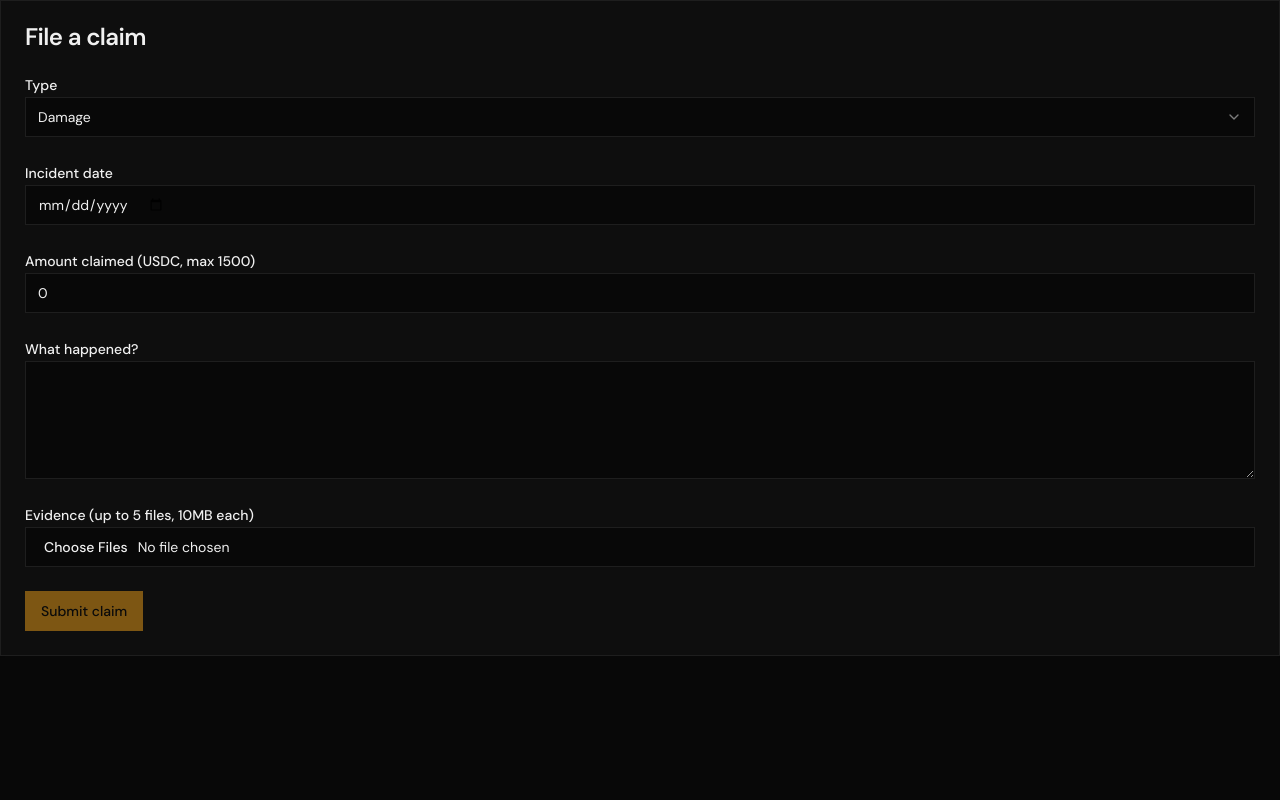
it: ClaimSubmit › surfaces backend error when submit fails
Type "2026-04-01" into the date field labelled "Incident date". click: (640, 205)
box: [25, 185, 1255, 225]
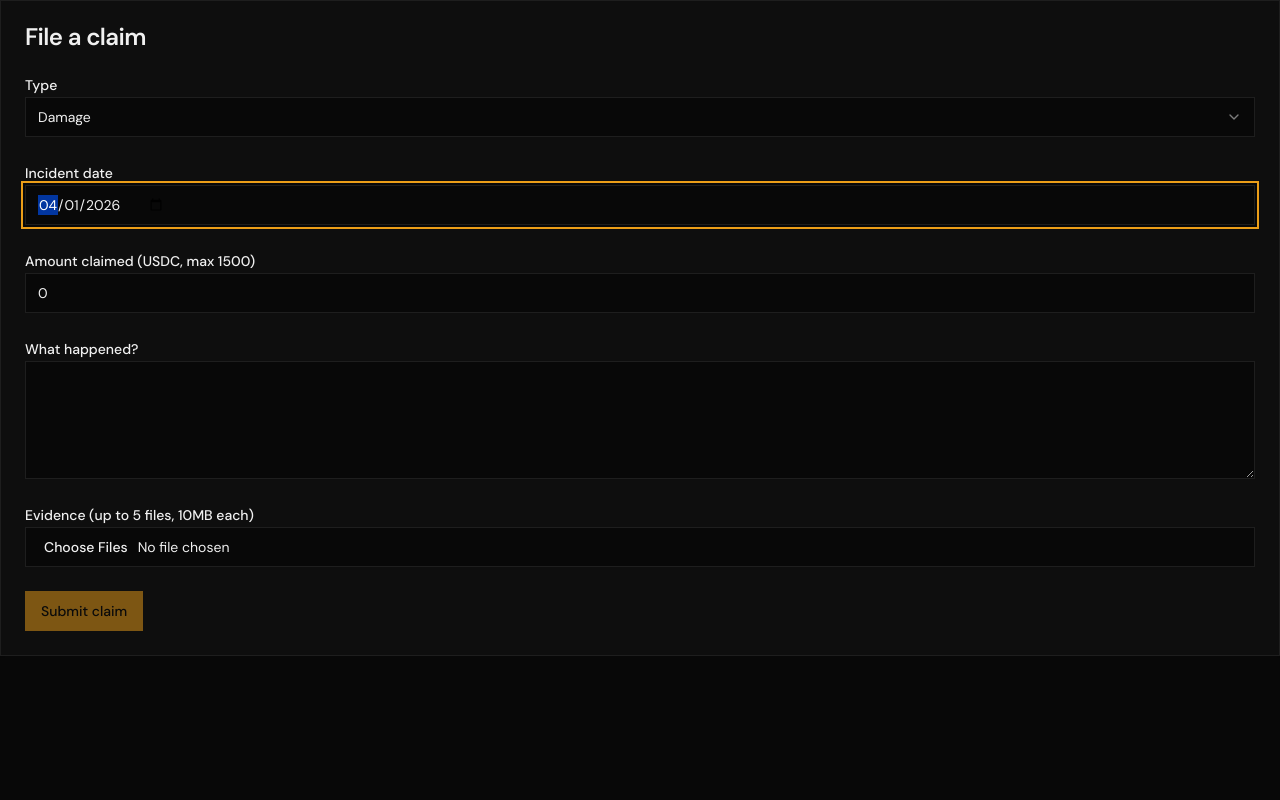
Replace the text in the number field labelled "Amount claimed (USDC, max 1500)" with "300". click: (640, 293)
box: [25, 273, 1255, 313]
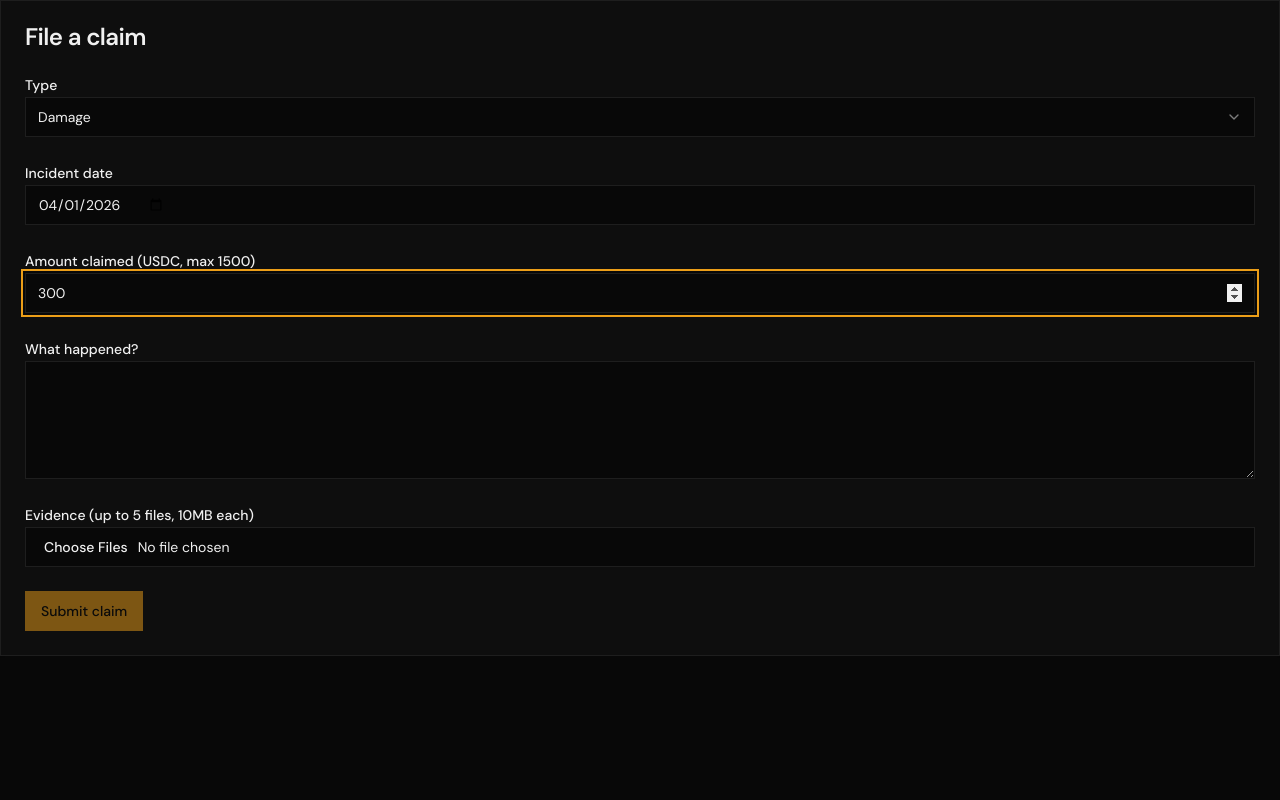
Type "details here" into the text box labelled "What happened?". click: (640, 420)
box: [25, 361, 1255, 479]
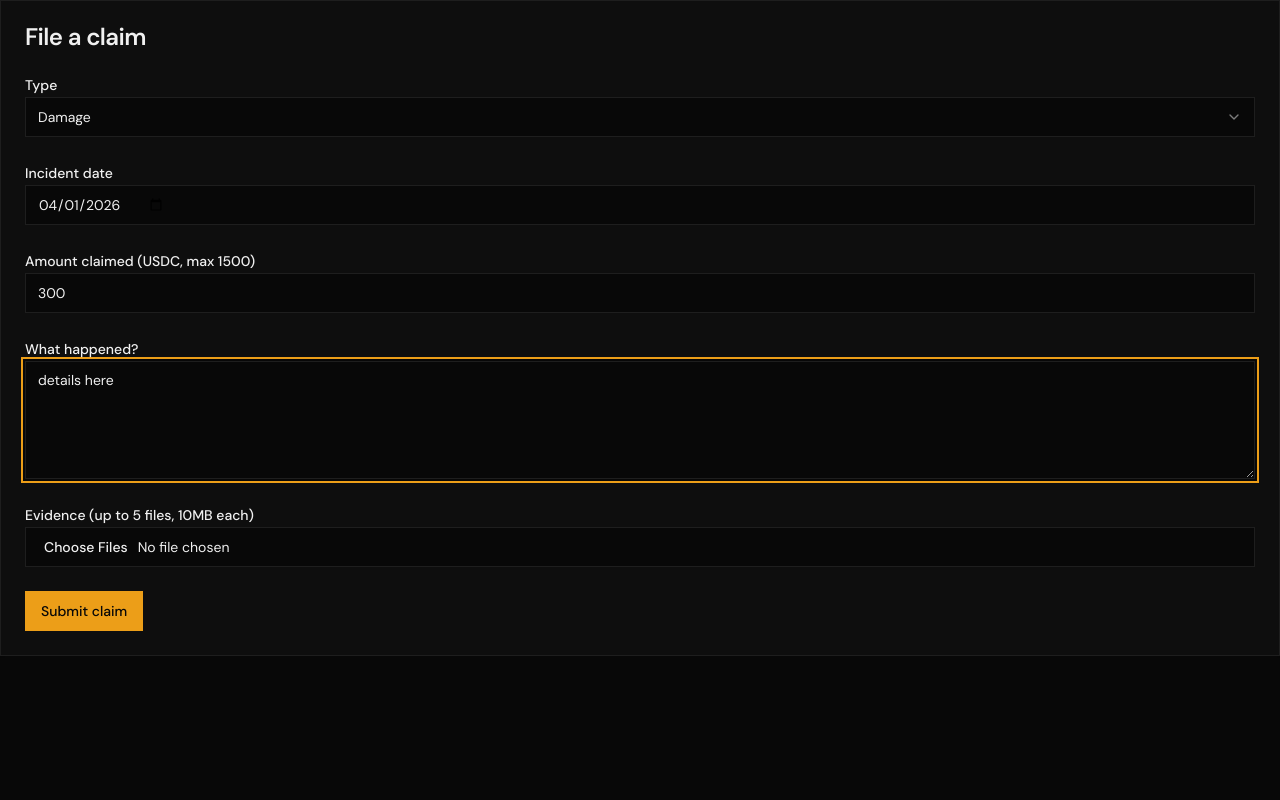
Now the button "Submit claim" is enabled
Click the button "Submit claim". click: (84, 611)
box: [25, 591, 143, 631]
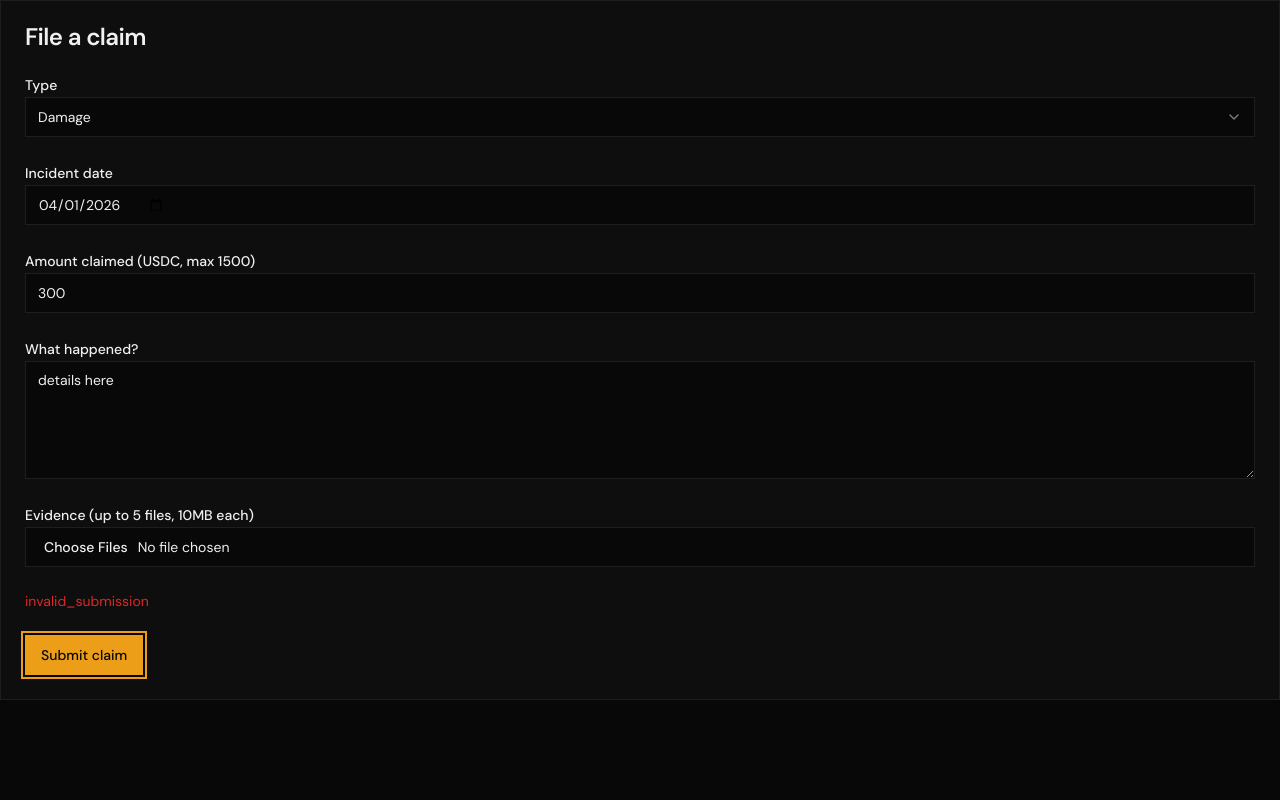
Now the message reads "invalid_submission", box [25, 592, 149, 610]
